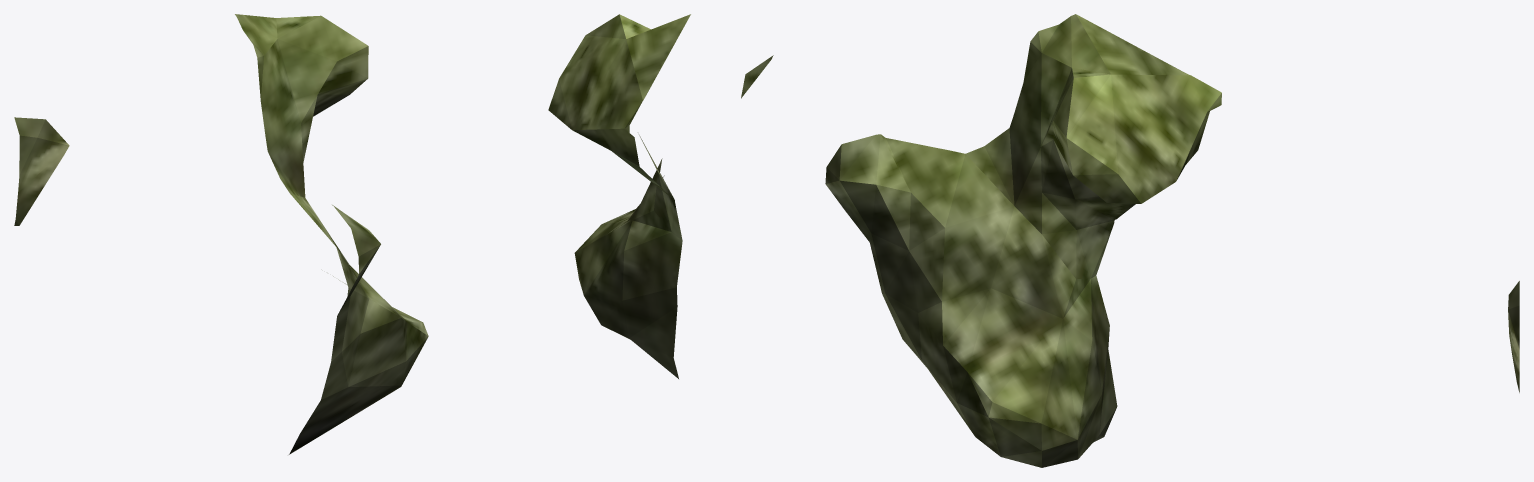
3 views of the same model, side by side, from view 1: azimuth 30°, elevation 25°; view 2: azimuth 150°, elevation 25°; view 3: azimuth 270°, elevation 25° (orthographic). The views are drawn at different scales.
Bounding box in the file's own units: 0.4185 × 1.14 × 1.62.
1 material, 1 textured.
